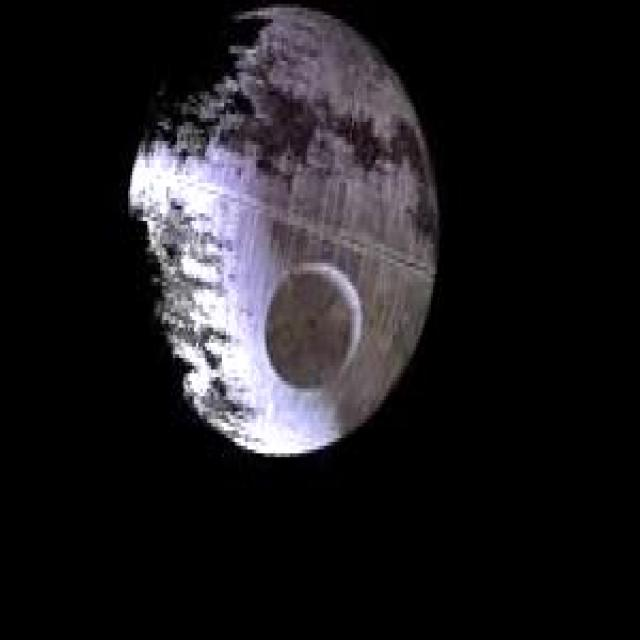deathstar: (130, 11, 436, 453)
